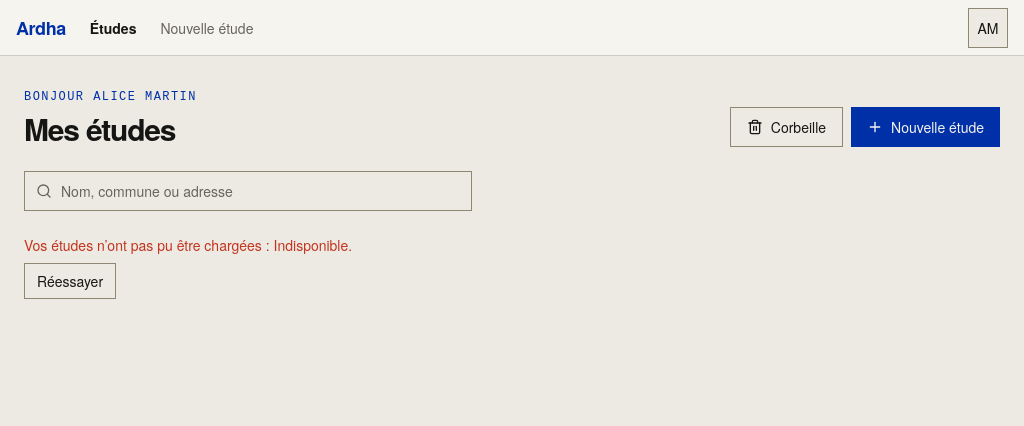
Scenario: accueil › aucune étude : invitation à en créer une ; erreur : message et « Réessayer »
Expected: the text "Vos études n’ont pas pu être chargées : Indisponible." is shown, left=24, top=235, right=352, bottom=255
Click the button "Réessayer" at (70,281), box left=24, top=263, right=116, bottom=299
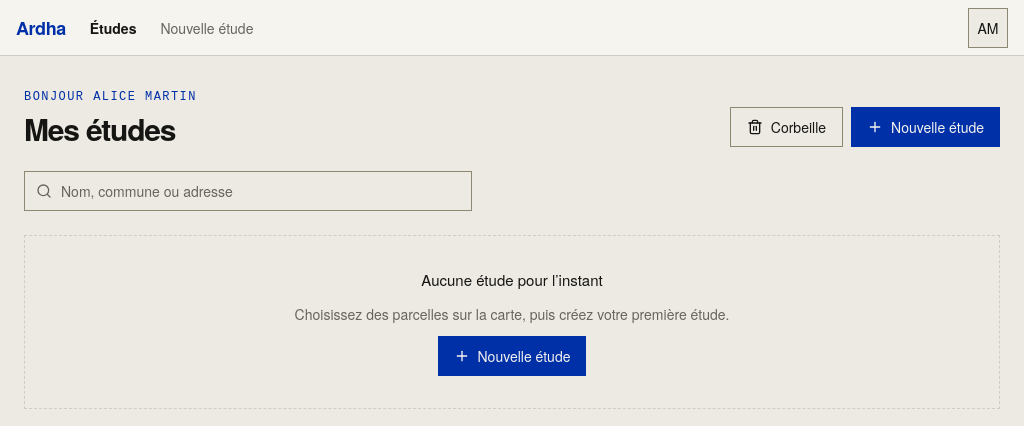
Now the text "Aucune étude pour l’instant" is shown, box left=421, top=269, right=603, bottom=290
